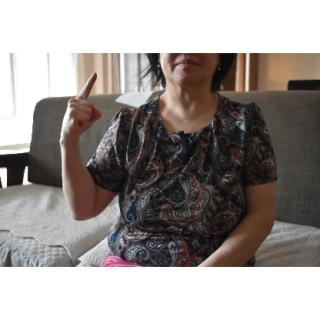RAA: (60, 69, 106, 144)
